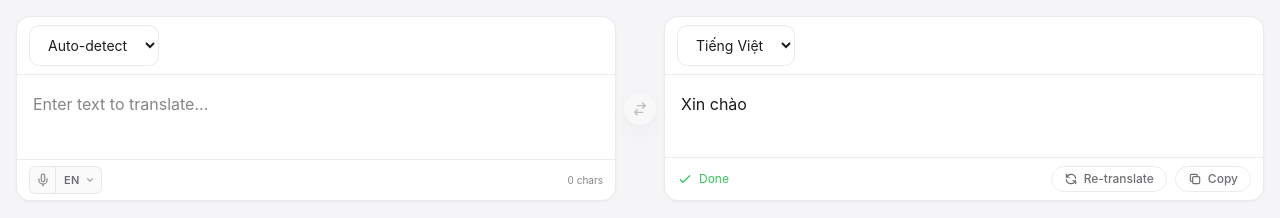
Test: TranslationView › Copy functionality › shows copied state after copying
The image size is (1280, 218).
Click the button "Copy".
click(1213, 179)  # box [1175,166,1251,192]
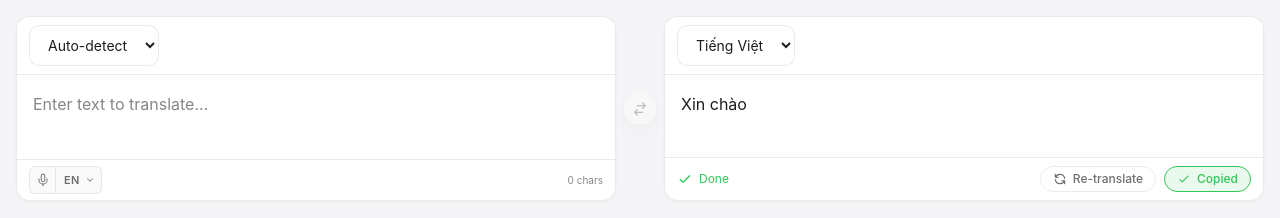
Expected: the text "Copied" is shown, [1197,171,1238,187]
